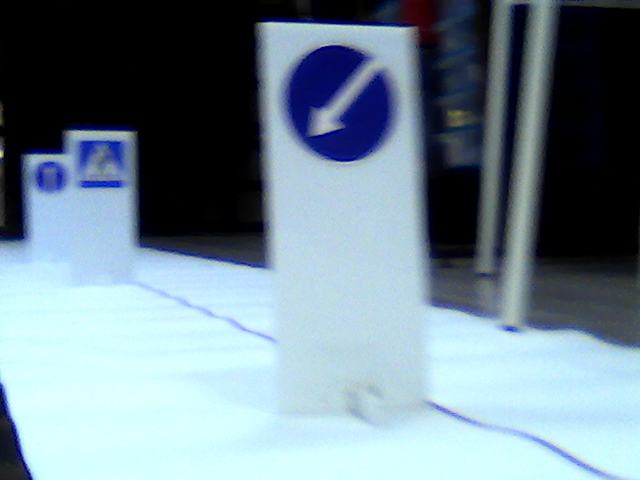pesh: (79, 139, 122, 188)
prep: (281, 42, 394, 168)
